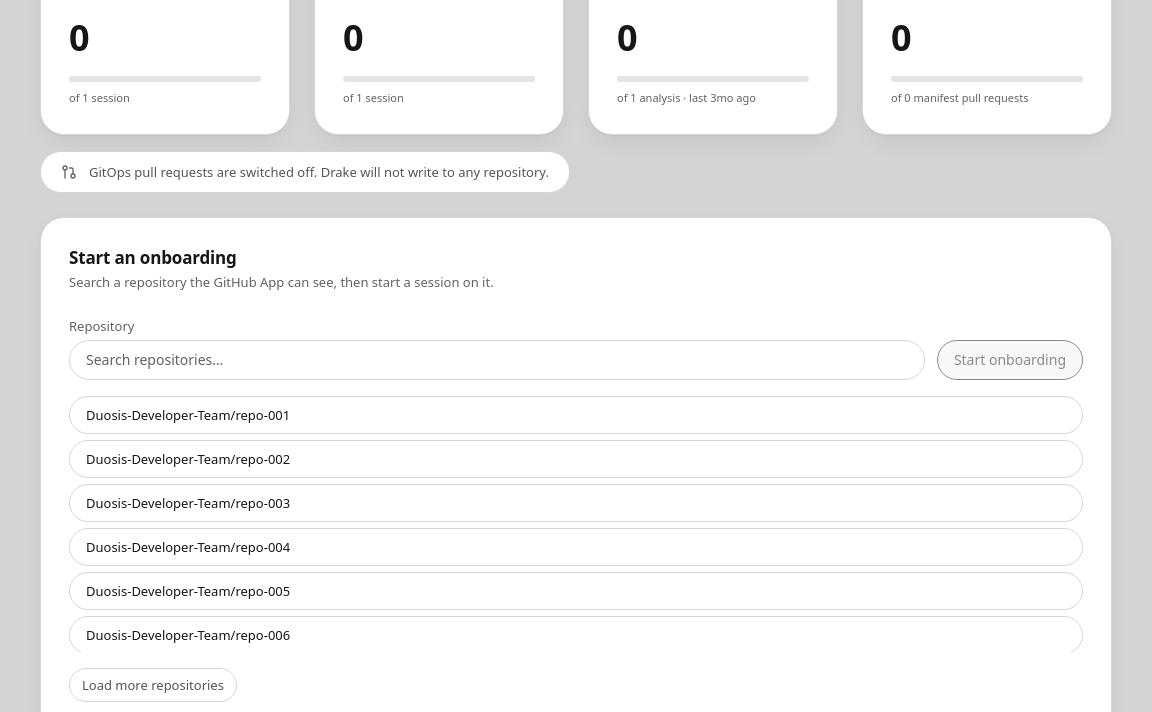
Test: repository picker pagination and search › searches on the server rather than filtering one page in the browser
(page scrolled)
Expected: the button with test id "repository-option-repo-1" is shown, [69,396,1083,434]
In the dropdown with test id "repository-search": (497, 360) [69,340,925,380], type "zeta"
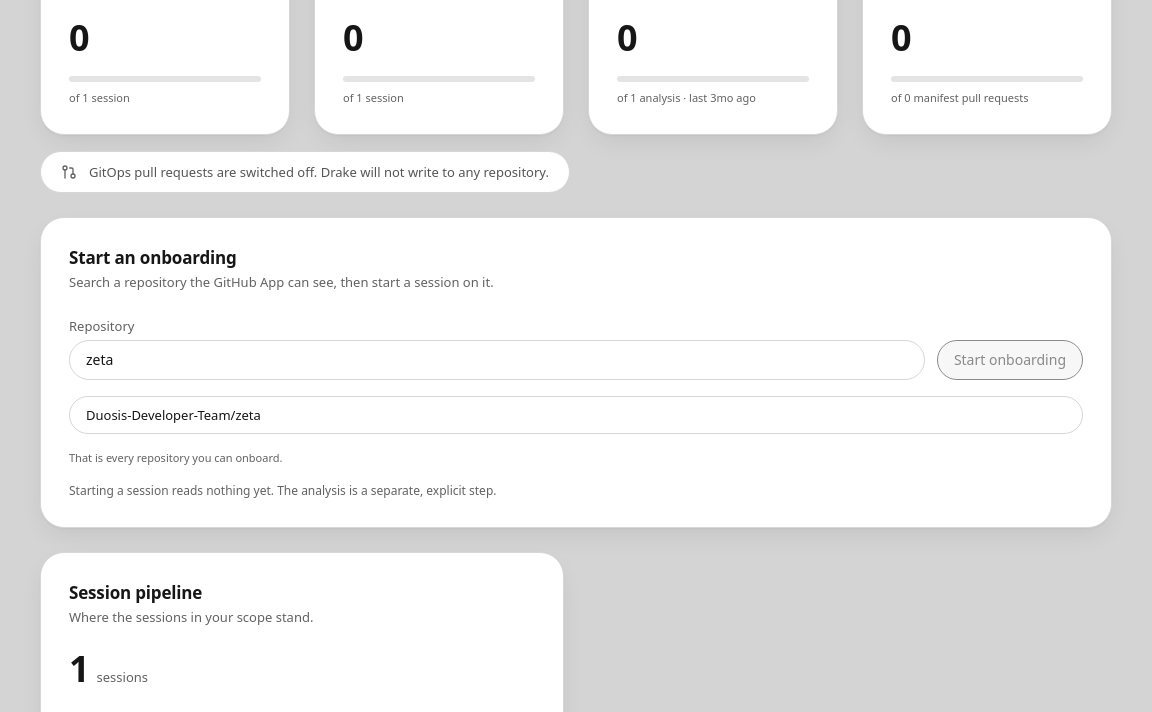
Now the button with test id "repository-option-repo-far" is shown, box [69,396,1083,434]
